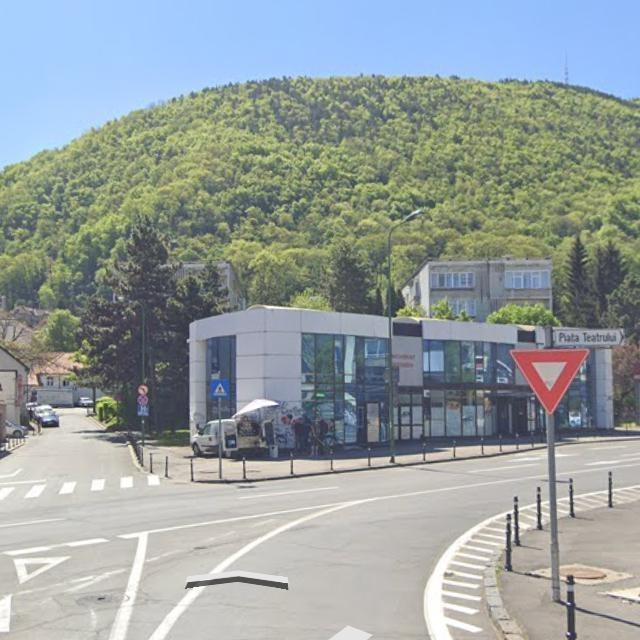info_crosswalk: (211, 380, 229, 400)
prio_give_way: (506, 347, 591, 414)
